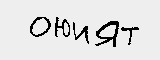И: (71, 21, 92, 46)
О: (29, 15, 51, 40)
Т: (121, 24, 143, 49)
Ю: (53, 16, 71, 41)
Я: (94, 19, 121, 50)
